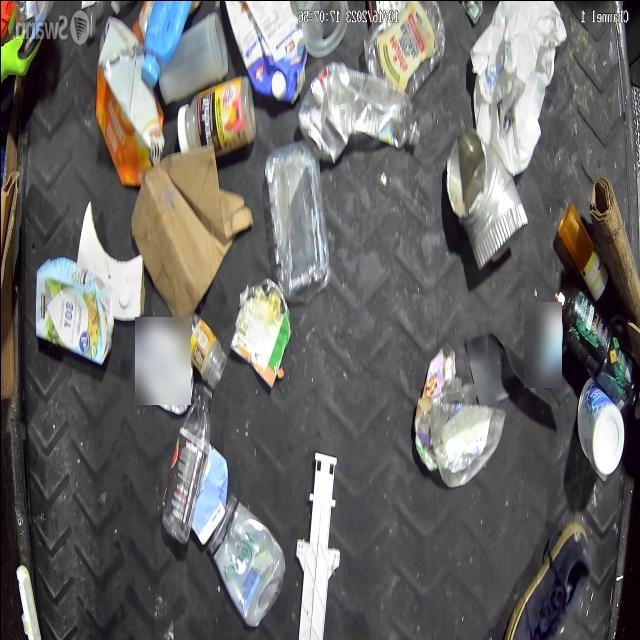plastic_bottle: (322, 62, 417, 146)
